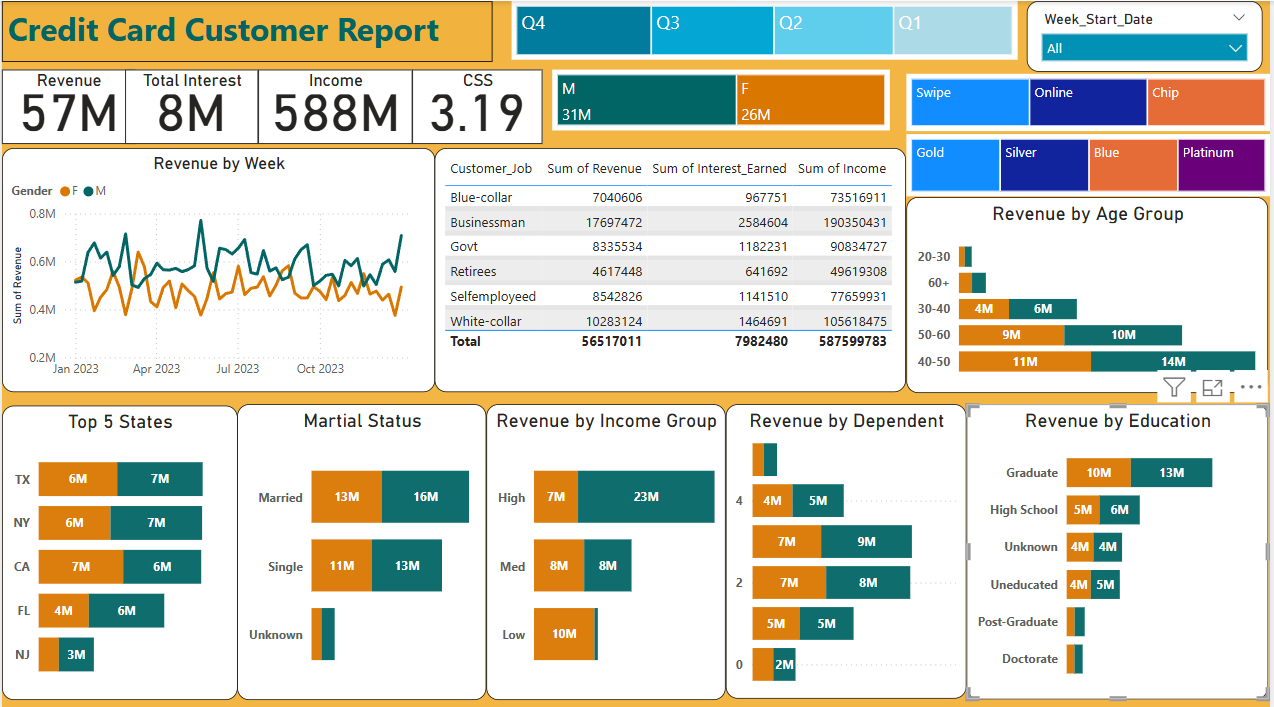

Layout of this report page (visuals, bound fields, positions):
{"tool":"powerbi","page":{"name":"CC Customer","canvas":[1280,720],"ordinal":2},"visuals":[{"type":"textbox","box":[0,0,494.7,61.2],"z":0},{"type":"card","title":"Revenue","fields":{"Values":["Sum(credit_detail.Revenue)"]},"box":[0,61.2,124.1,73.4],"z":1000},{"type":"card","title":"Total Interest","fields":{"Values":["Sum(credit_detail.Interest_Earned)"]},"box":[118.9,61.2,134.6,75.2],"z":2000},{"type":"card","title":"Income","fields":{"Values":["Sum(cust_detail.Income)"]},"box":[253.5,61.2,155.6,75.2],"z":3000},{"type":"card","title":"CSS","fields":{"Values":["Avg(cust_detail.Cust_Satisfaction_Score)"]},"box":[409,61.2,131.1,75.2],"z":4000},{"type":"slicer","fields":{"Values":["credit_detail.Week_Start_Date"]},"box":[1034.8,0,237.7,71.7],"z":5000},{"type":"treemap","fields":{"Group":["credit_detail.Qtr"],"Values":["Avg(credit_detail.Client_Num)"]},"box":[513.9,0,510.4,59.4],"z":6000},{"type":"treemap","fields":{"Group":["credit_detail.Card_Category"],"Values":["Avg(credit_detail.Client_Num)"]},"box":[912.4,134.6,367.1,62.9],"z":7000},{"type":"lineChart","title":"Revenue by Week","fields":{"Y":["Sum(credit_detail.Revenue)"],"Series":["cust_detail.Gender"],"Category":["credit_detail.Week_Start_Date.Variation.Date Hierarchy.Year","credit_detail.Week_Start_Date.Variation.Date Hierarchy.Month","credit_detail.Week_Start_Date.Variation.Date Hierarchy.Day"]},"box":[0,148.6,437,246.5],"z":8000},{"type":"treemap","fields":{"Group":["cust_detail.Gender"],"Values":["Sum(credit_detail.Revenue)"]},"box":[555.9,69.9,340.9,61.2],"z":9000},{"type":"barChart","title":"Revenue by Income Group","fields":{"Y":["Sum(credit_detail.Revenue)"],"Category":["cust_detail.IncomeGroup"],"Series":["cust_detail.Gender"]},"box":[489.4,407.3,241.2,298.9],"z":10000},{"type":"barChart","title":"Revenue by Age Group","fields":{"Y":["Sum(credit_detail.Revenue)"],"Category":["cust_detail.AgeGroup"],"Series":["cust_detail.Gender"]},"box":[912.4,197.5,365.3,197.5],"z":11000},{"type":"barChart","title":"Revenue by Dependent","fields":{"Y":["Sum(credit_detail.Revenue)"],"Category":["cust_detail.Dependent_Count"],"Series":["cust_detail.Gender"]},"box":[730.6,407.3,243,297.2],"z":12000},{"type":"barChart","title":"Revenue by Education","fields":{"Y":["Sum(credit_detail.Revenue)"],"Category":["cust_detail.Education_Level"],"Series":["cust_detail.Gender"]},"box":[973.6,409,304.1,295.4],"z":13000},{"type":"barChart","title":"Top 5 States","fields":{"Y":["Sum(credit_detail.Revenue)"],"Category":["cust_detail.State_cd"],"Series":["cust_detail.Gender"]},"box":[0,409,237.7,297.2],"z":14000},{"type":"tableEx","fields":{"Values":["cust_detail.Customer_Job","Sum(credit_detail.Revenue)","Sum(credit_detail.Interest_Earned)","Sum(cust_detail.Income)"]},"box":[437,148.6,475.4,246.5],"z":15000},{"type":"barChart","title":"Martial Status","fields":{"Y":["Sum(credit_detail.Revenue)"],"Category":["cust_detail.Marital_Status"],"Series":["cust_detail.Gender"]},"box":[237.7,407.3,251.7,298.9],"z":16000},{"type":"treemap","fields":{"Group":["credit_detail.Use_Chip"],"Values":["Avg(credit_detail.Client_Num)"]},"box":[912.4,73.4,367.1,57.7],"z":17000}]}

Visuals, with their boxes in screenshot pixels (x1, y1, x2, y2), scaled from the page's 1280x720 canvas onto the 1274x707 screenshot:
textbox: locate(0, 0, 492, 60)
"Revenue" card: locate(0, 60, 124, 132)
"Total Interest" card: locate(118, 60, 252, 134)
"Income" card: locate(252, 60, 407, 134)
"CSS" card: locate(407, 60, 538, 134)
slicer - credit_detail.Week_Start_Date: locate(1030, 0, 1267, 70)
treemap - credit_detail.Qtr x Avg(credit_detail.Client_Num): locate(511, 0, 1019, 58)
treemap - credit_detail.Card_Category x Avg(credit_detail.Client_Num): locate(908, 132, 1273, 194)
"Revenue by Week" lineChart: locate(0, 146, 435, 388)
treemap - cust_detail.Gender x Sum(credit_detail.Revenue): locate(553, 69, 893, 129)
"Revenue by Income Group" barChart: locate(487, 400, 727, 693)
"Revenue by Age Group" barChart: locate(908, 194, 1272, 388)
"Revenue by Dependent" barChart: locate(727, 400, 969, 692)
"Revenue by Education" barChart: locate(969, 402, 1272, 692)
"Top 5 States" barChart: locate(0, 402, 237, 693)
tableEx - cust_detail.Customer_Job x Sum(credit_detail.Revenue): locate(435, 146, 908, 388)
"Martial Status" barChart: locate(237, 400, 487, 693)
treemap - credit_detail.Use_Chip x Avg(credit_detail.Client_Num): locate(908, 72, 1273, 129)
